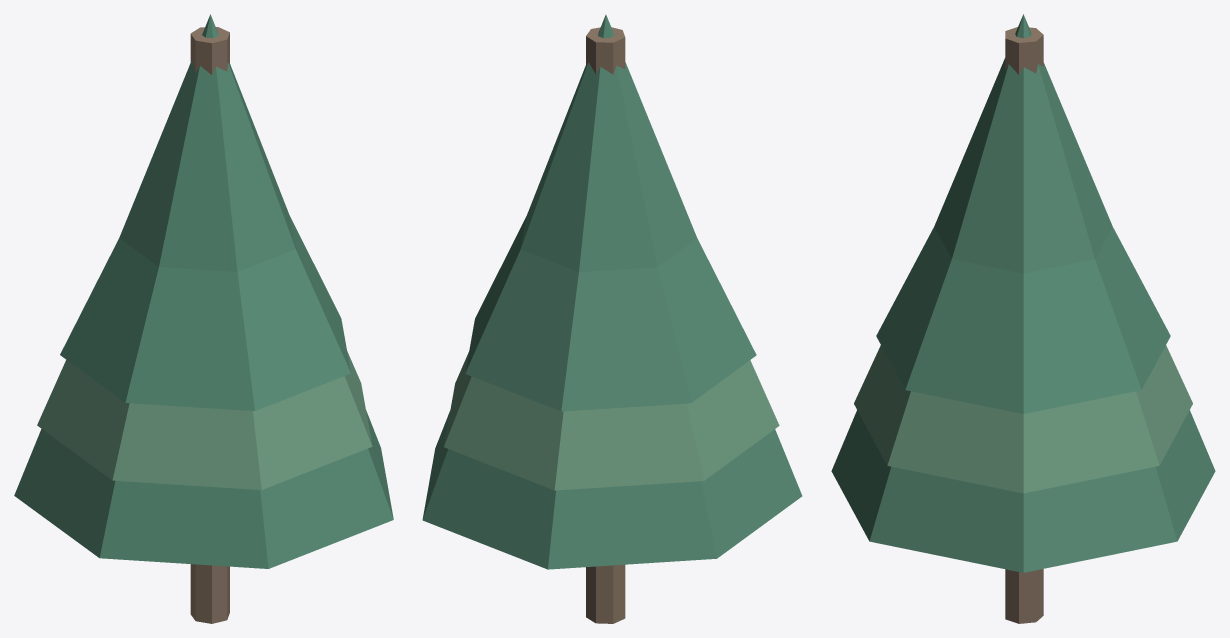
File: pine_tree_lod1.gltf
3 views of the same model, side by side, from view 1: azimuth 30°, elevation 25°; view 2: azimuth 150°, elevation 25°; view 3: azimuth 270°, elevation 25° (orthographic).
Visible parts, largest first — view 1: NeedleTier_0, NeedleTier_2, NeedleTier_1, Trunk; view 2: NeedleTier_0, NeedleTier_2, NeedleTier_1, Trunk; view 3: NeedleTier_0, NeedleTier_2, NeedleTier_1, Trunk.
Part boxes in pixels (bbox=[...]): NeedleTier_0: bbox=[14, 14, 393, 568]; NeedleTier_2: bbox=[60, 216, 350, 410]; NeedleTier_1: bbox=[37, 351, 372, 489]; Trunk: bbox=[190, 27, 229, 623]; NeedleTier_0: bbox=[422, 14, 802, 569]; NeedleTier_2: bbox=[465, 216, 756, 411]; NeedleTier_1: bbox=[444, 352, 779, 490]; Trunk: bbox=[586, 27, 625, 623]; NeedleTier_0: bbox=[831, 14, 1215, 572]; NeedleTier_2: bbox=[876, 227, 1170, 413]; NeedleTier_1: bbox=[854, 345, 1192, 493]; Trunk: bbox=[1005, 27, 1043, 623].
Bounding box in the file's own units: 2.78 × 4.92 × 2.85.
